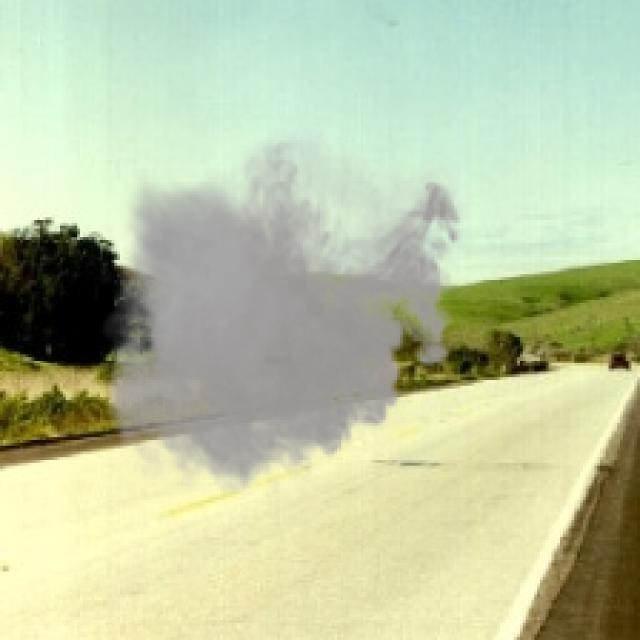Smoke: (94, 117, 474, 509)
